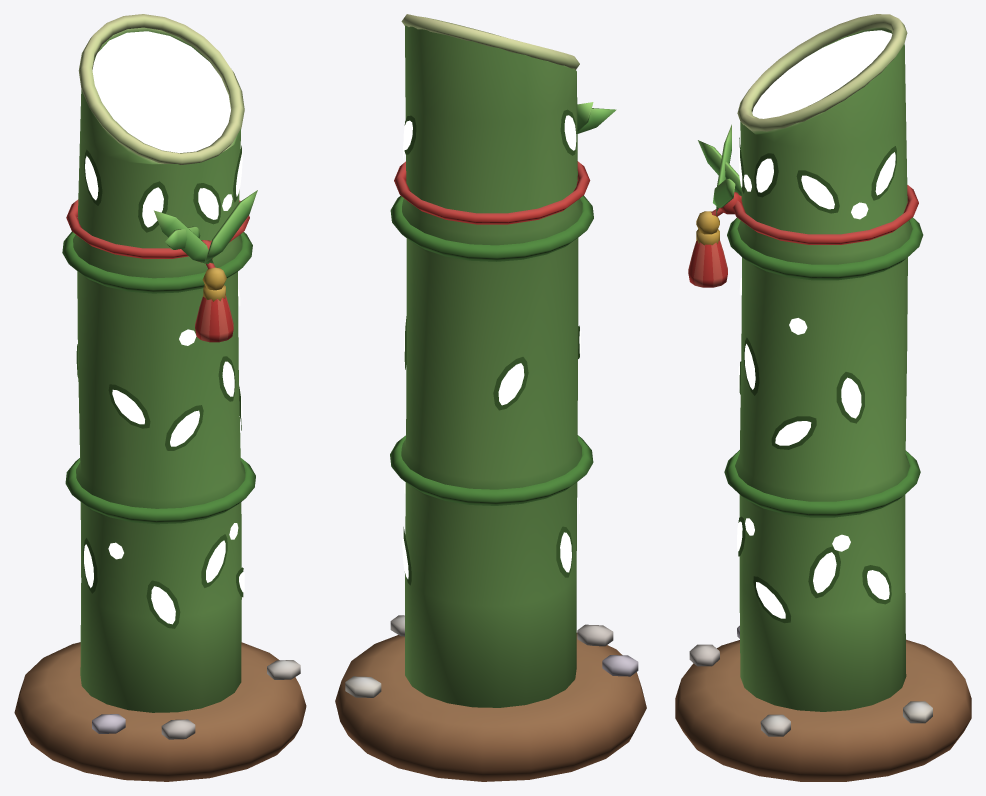
Rendered from furn-bambooLantern.glb.
3 views of the same model, side by side, from view 1: azimuth 30°, elevation 25°; view 2: azimuth 150°, elevation 25°; view 3: azimuth 270°, elevation 25° (orthographic). The views are drawn at different scales.
Parts seen in each view (by area): view 1: furn-bambooLantern; view 2: furn-bambooLantern; view 3: furn-bambooLantern.
Boxes of the visible parts, x1,y1,x2,y2 form: furn-bambooLantern: (14,14,306,781); furn-bambooLantern: (335,14,646,781); furn-bambooLantern: (675,14,971,781).
Bounding box in the file's own units: 0.3753 × 0.9736 × 0.3753.
